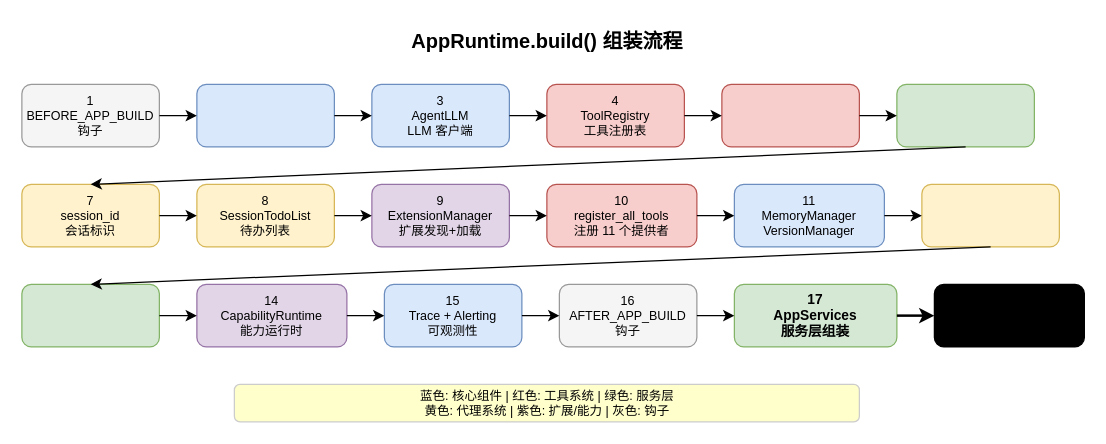
Some shapes in this 1106 by 444 pixel diagram are drawn without their labels. Here are the shapes that lost their labels. From the top down, the centre of each, then its label:
At [265,115]: "2 Settings 配置加载".
At [790,115]: "5 ConfirmBridge 确认桥接".
At [965,115]: "6 MCPToolManager MCP 管理器".
At [990,215]: "12 ReActAgent 代理创建".
At [90,315]: "13 SkillRegistry 技能发现".
At [1008,315]: "AppRuntime 实例".
